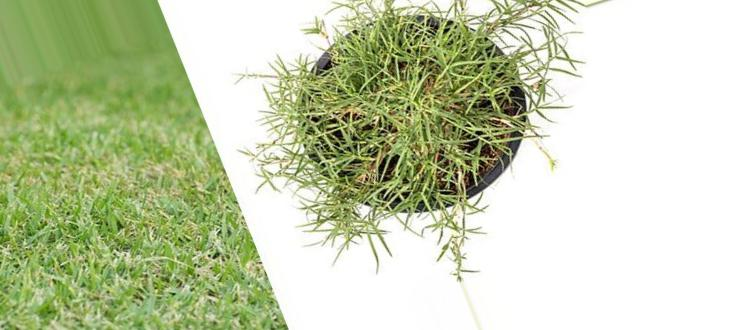patch: (484, 146, 504, 171), (149, 162, 173, 177)
